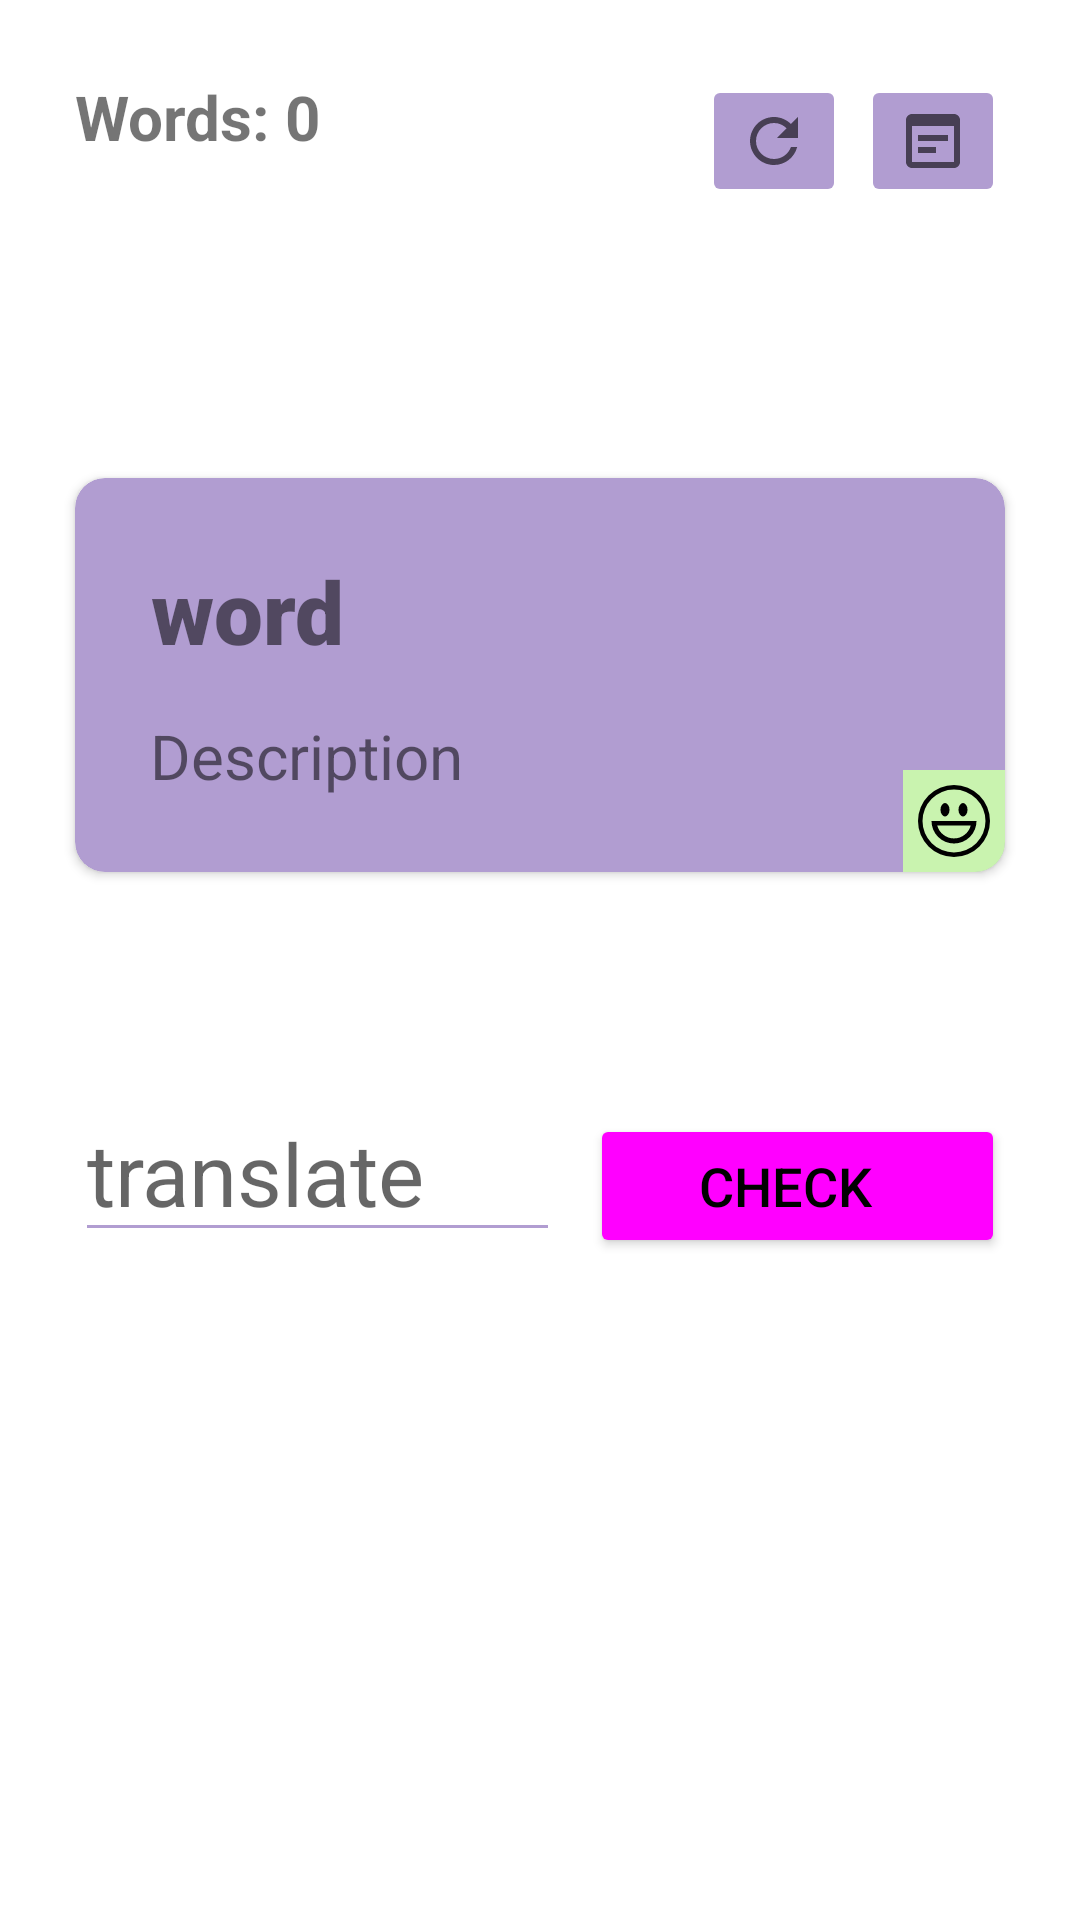

Screen size 1080×1920. Icon name, then its center in pixels as [x,y]:
refresh: [774,141]
smile: [954,821]
wysiwyg: [933,141]
